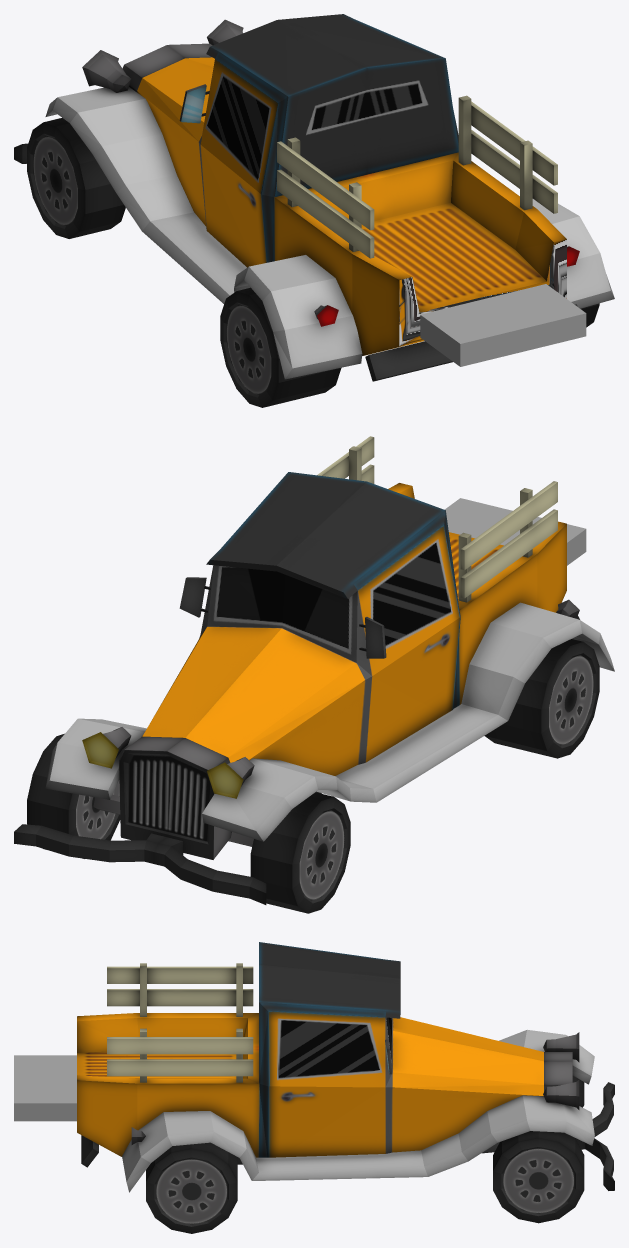
File: PickupTruck.fbx
3 renders of one model, top to bottom at view 1: azimuth 30°, elevation 25°; view 2: azimuth 150°, elevation 25°; view 3: azimuth 270°, elevation 25°, orthographic. The views are drawn at different scales.
Visible parts, largest first — view 1: Body, pCube1, FrontLeft, BackLeft; view 2: Body, FrontLeft, BackLeft, FrontRight, pCube1; view 3: Body, FrontRight, BackRight, pCube1.
Part boxes in pixels (x1,y1,x2,y2): Body: (14, 14, 614, 381); pCube1: (420, 284, 586, 366); FrontLeft: (27, 118, 125, 238); BackLeft: (220, 287, 341, 407); Body: (14, 436, 614, 904); FrontLeft: (250, 792, 350, 913); BackLeft: (484, 639, 599, 758); FrontRight: (27, 733, 120, 858); pCube1: (444, 498, 586, 565); Body: (77, 942, 614, 1192); FrontRight: (493, 1131, 584, 1223); BackRight: (146, 1142, 237, 1233); pCube1: (14, 1055, 76, 1121).
Bounding box in the file's own units: 286 × 220 × 576.
Materials: 2 (1 with a texture image).
